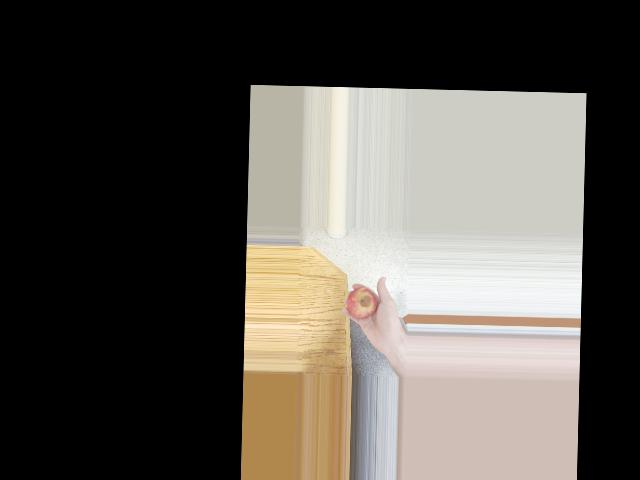apple: (347, 285, 381, 323)
